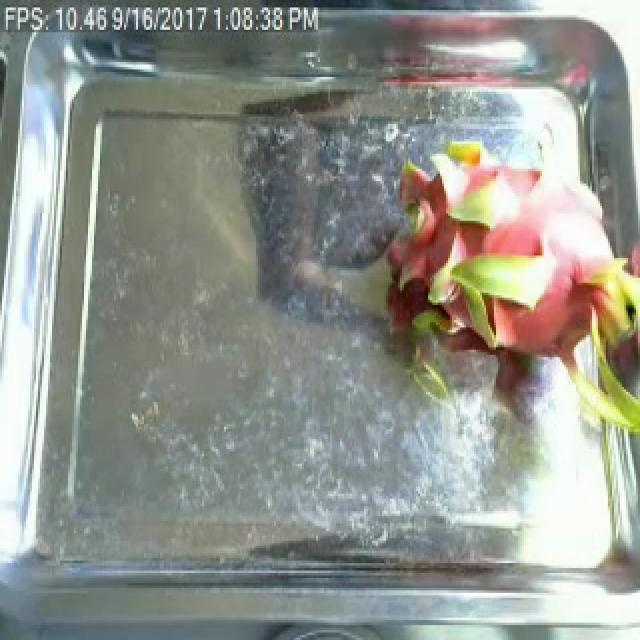fruit: (356, 104, 640, 449)
